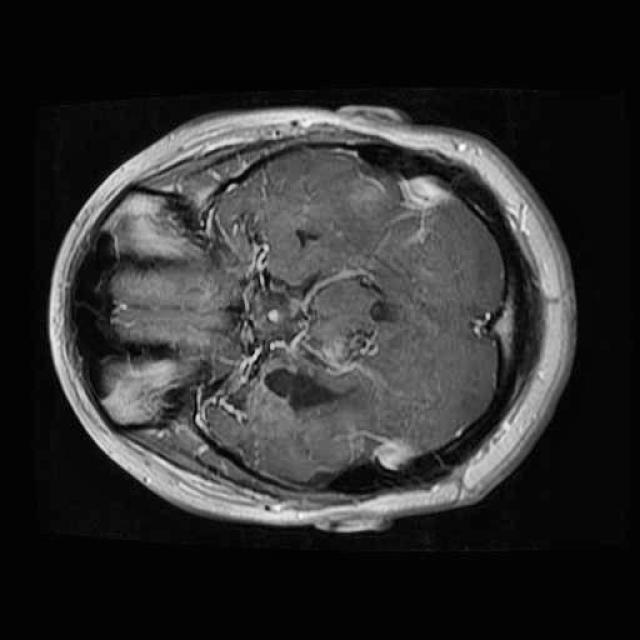Tumor: (250, 305, 388, 425)
